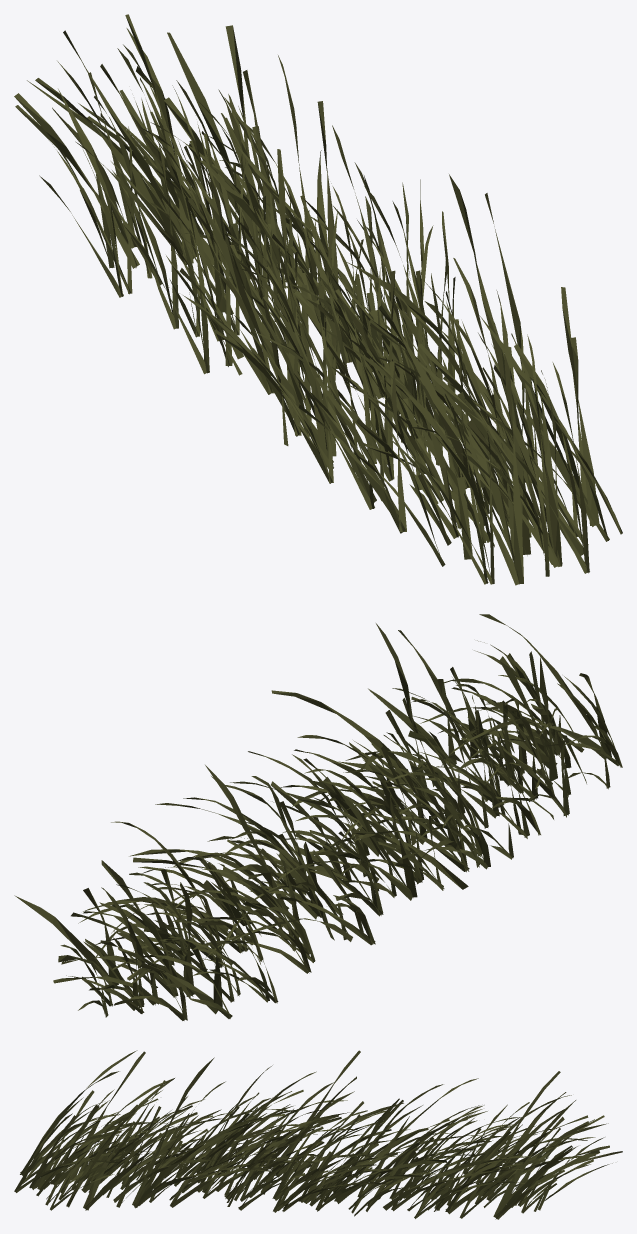
Rendered from GrassWindNarrow.fbx.
The picture shows the model from 3 angles, top to bottom: view 1: azimuth 30°, elevation 25°; view 2: azimuth 150°, elevation 25°; view 3: azimuth 270°, elevation 25°; orthographic projection. The views are drawn at different scales.
Visible parts, largest first — view 1: grassWindNarrow1Main; view 2: grassWindNarrow1Main; view 3: grassWindNarrow1Main.
Boxes of the visible parts, x1,y1,x2,y2 form: grassWindNarrow1Main: (14,14,622,585); grassWindNarrow1Main: (14,614,622,1020); grassWindNarrow1Main: (14,1050,622,1219).
Bounding box in the file's own units: 1.49 × 1.28 × 4.76.
